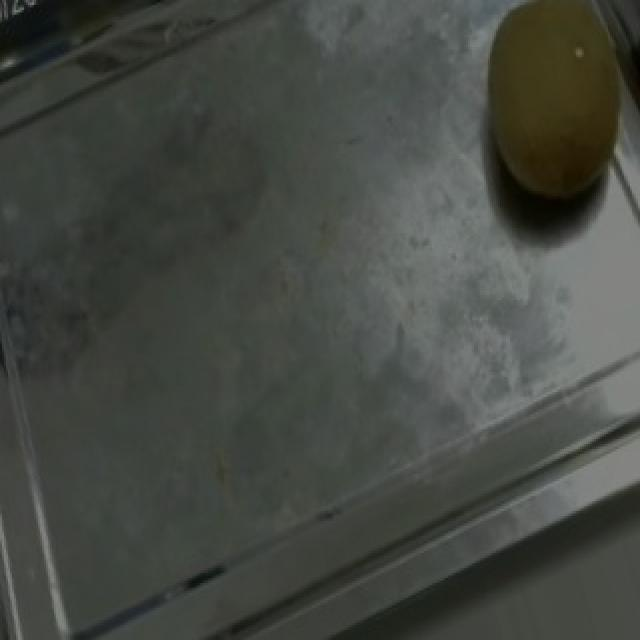Fruit: (448, 0, 640, 243)
